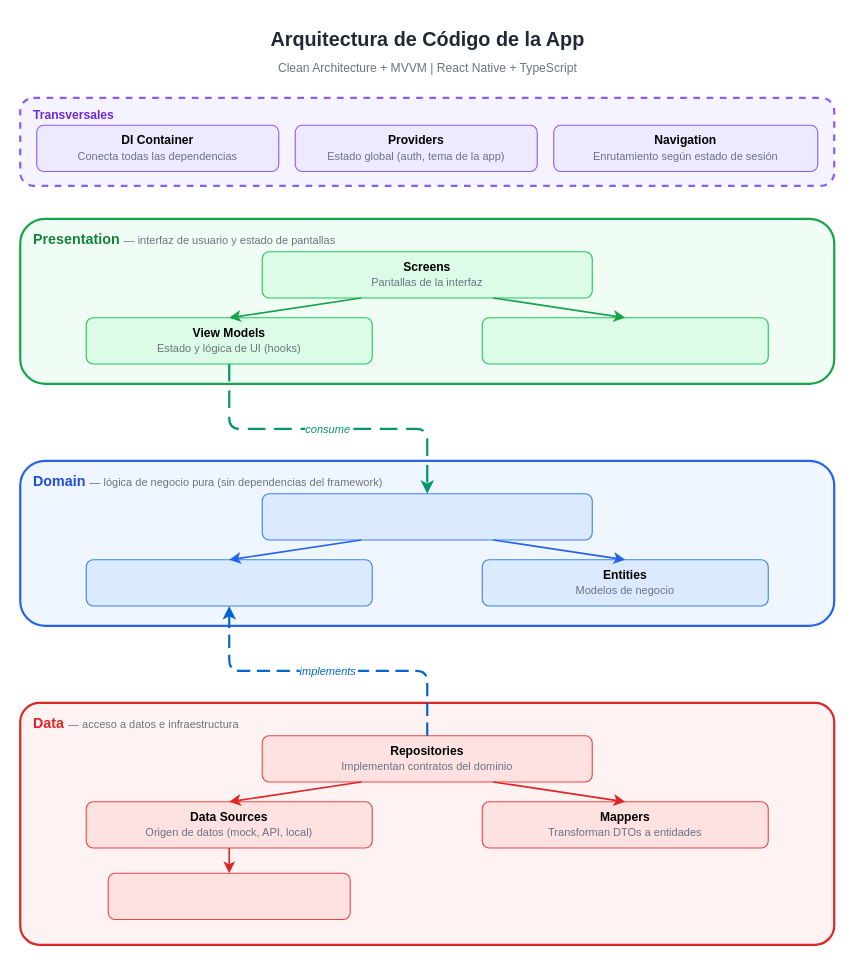
The diagram is 854 pixels wide and 965 high, and some of its shapes have lost their labels. Here are the shapes that lost their labels. From the top down, the centre of each, then its label:
(x=624, y=340): Shared Components Piezas reutilizables de UI
(x=426, y=516): Use Cases Operaciones de negocio
(x=228, y=582): Contracts Interfaces de repositorios y servicios
(x=228, y=895): HTTP Client Comunicación con APIs
